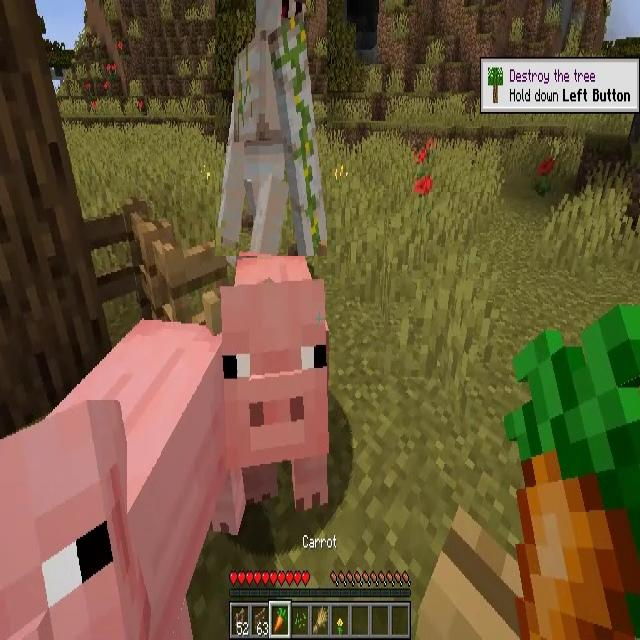people: (215, 0, 328, 256)
pig: (2, 317, 223, 640), (223, 247, 328, 508)
